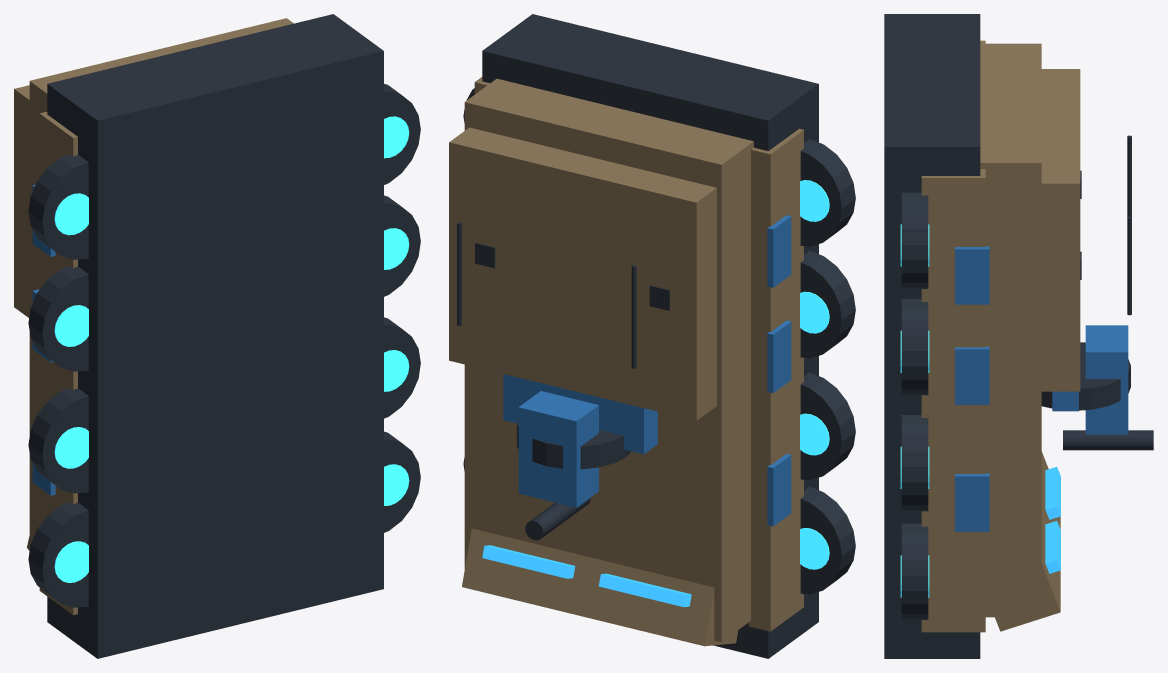
Rendered from ember_vehicle_detailed.glb.
The picture shows the model from 3 angles, left to right: view 1: azimuth 30°, elevation 25°; view 2: azimuth 150°, elevation 25°; view 3: azimuth 270°, elevation 25°; orthographic projection. The views are drawn at different scales.
Parts seen in each view (by area): view 1: armored chassis, sloped armored hull, side skirt, armored wheel.001, armored wheel, armored wheel.002, armored wheel.003, rear troop bay, armored wheel.004, armored wheel.007, armored wheel.005, armored wheel.006 (+8 smaller); view 2: rear troop bay, sloped armored hull, armored chassis, side skirt, forward glacis, remote weapon housing, blue command panel, armored wheel, armored wheel.003, armored wheel.002, armored wheel.001, remote turret ring (+11 smaller); view 3: sloped armored hull, armored chassis, side skirt.001, rear troop bay, remote weapon housing, armored wheel.004, armored wheel.005, armored wheel.006, armored wheel.007, blue side chevron.003, blue side chevron.005, blue side chevron.004 (+8 smaller).
Part boxes in pixels (box(x1,y1,x2,y2)): armored chassis: box(47, 14, 383, 658); sloped armored hull: box(29, 18, 293, 549); side skirt: box(39, 111, 77, 615); armored wheel.001: box(28, 387, 88, 493); armored wheel: box(28, 502, 88, 607); armored wheel.002: box(28, 266, 88, 371); armored wheel.003: box(28, 154, 88, 259); rear troop bay: box(14, 85, 29, 317); armored wheel.004: box(384, 431, 420, 532); armored wheel.007: box(384, 84, 420, 184); armored wheel.005: box(384, 317, 420, 418); armored wheel.006: box(384, 195, 420, 296); rear troop bay: box(449, 127, 716, 420); sloped armored hull: box(464, 78, 753, 641); armored chassis: box(482, 14, 818, 658); side skirt: box(748, 128, 803, 631); forward glacis: box(462, 528, 738, 646); remote weapon housing: box(518, 391, 598, 507); blue command panel: box(503, 374, 657, 454); armored wheel: box(800, 486, 855, 594); armored wheel.003: box(800, 139, 855, 246); armored wheel.002: box(800, 250, 855, 358); armored wheel.001: box(800, 372, 855, 479); remote turret ring: box(517, 416, 631, 469); sloped armored hull: box(980, 43, 1041, 617); armored chassis: box(884, 14, 980, 658); side skirt.001: box(921, 169, 985, 632); rear troop bay: box(1041, 69, 1080, 391); remote weapon housing: box(1085, 325, 1128, 434); armored wheel.004: box(901, 523, 928, 619); armored wheel.005: box(901, 415, 928, 511); armored wheel.006: box(901, 299, 928, 395); armored wheel.007: box(901, 192, 928, 288); blue side chevron.003: box(955, 473, 989, 531); blue side chevron.005: box(955, 246, 989, 304); blue side chevron.004: box(955, 346, 989, 404).
Bounding box in the file's own units: 3.12 × 4.24 × 2.02.
